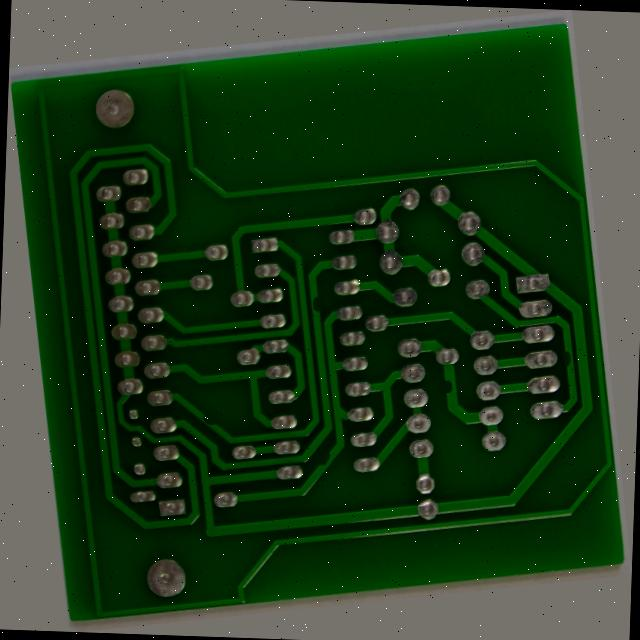mouse_bite: (169, 399, 191, 428), (444, 400, 466, 427), (584, 385, 602, 415), (294, 465, 314, 490), (310, 287, 325, 315)
